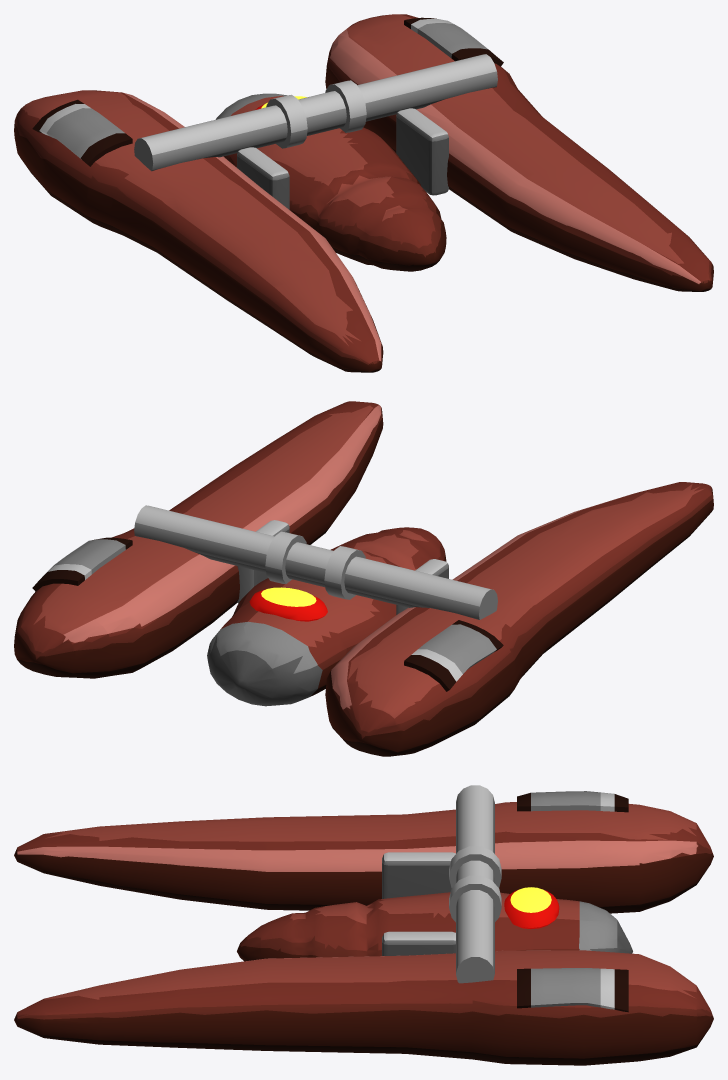
The model's file is prong_ship_3.glb.
The picture shows the model from 3 angles, top to bottom: view 1: azimuth 30°, elevation 25°; view 2: azimuth 150°, elevation 25°; view 3: azimuth 270°, elevation 25°; orthographic projection. The views are drawn at different scales.
Visible parts, largest first — view 1: prong_l, prong_r, pod, bar, guide1.0, plate, plate_r, guide-1.0, collar-1.0, collar1.0; view 2: prong_l, prong_r, pod, bar, plate, plate_r, core, collar-1.0, collar1.0, guide1.0; view 3: prong_r, prong_l, pod, bar, plate_r, guide-1.0, plate, core, guide1.0, collar1.0, collar-1.0.
Boxes of the visible parts, left/top/right/bottom form: prong_l: left=14, top=90, right=383, bottom=372; prong_r: left=325, top=14, right=713, bottom=291; pod: left=216, top=93, right=446, bottom=271; bar: left=134, top=54, right=497, bottom=171; guide1.0: left=396, top=108, right=448, bottom=195; plate: left=32, top=99, right=132, bottom=166; plate_r: left=404, top=17, right=503, bottom=66; guide-1.0: left=237, top=147, right=289, bottom=209; collar-1.0: left=266, top=94, right=307, bottom=148; collar1.0: left=325, top=80, right=366, bottom=132; prong_l: left=325, top=482, right=713, bottom=756; prong_r: left=14, top=401, right=383, bottom=678; pod: left=207, top=527, right=446, bottom=706; bar: left=134, top=505, right=497, bottom=619; plate: left=404, top=620, right=503, bottom=691; plate_r: left=32, top=537, right=132, bottom=591; core: left=249, top=587, right=327, bottom=621; collar-1.0: left=324, top=546, right=365, bottom=599; collar1.0: left=265, top=531, right=306, bottom=583; guide1.0: left=237, top=520, right=289, bottom=603; prong_r: left=14, top=950, right=713, bottom=1065; prong_l: left=14, top=802, right=713, bottom=913; pod: left=237, top=892, right=632, bottom=961; bar: left=456, top=785, right=494, bottom=983; plate_r: left=517, top=968, right=628, bottom=1012; guide-1.0: left=382, top=852, right=455, bottom=898; plate: left=517, top=791, right=628, bottom=812; core: left=504, top=887, right=559, bottom=929; guide1.0: left=382, top=931, right=455, bottom=955; collar1.0: left=449, top=875, right=501, bottom=922; collar-1.0: left=449, top=846, right=501, bottom=887.
Bounding box in the file's own units: 18.5 × 5.03 × 25.14.
